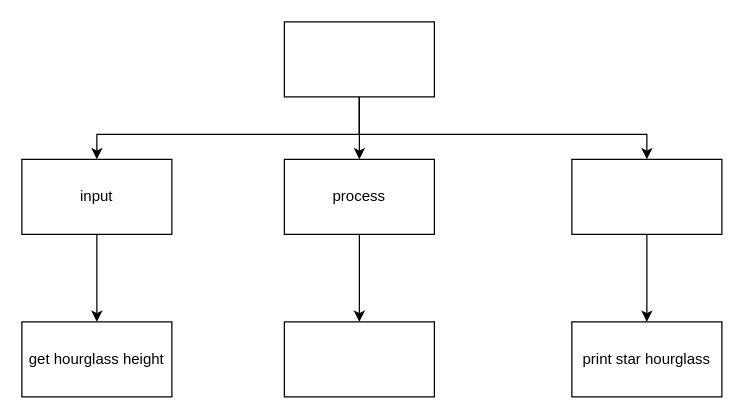
This 744x419 diagram has some shape labels left out. Here are the shapes that lost their labels. From the top down, the centre of each, then its label:
At point (358, 59): "hourglass".
At point (646, 196): "output".
